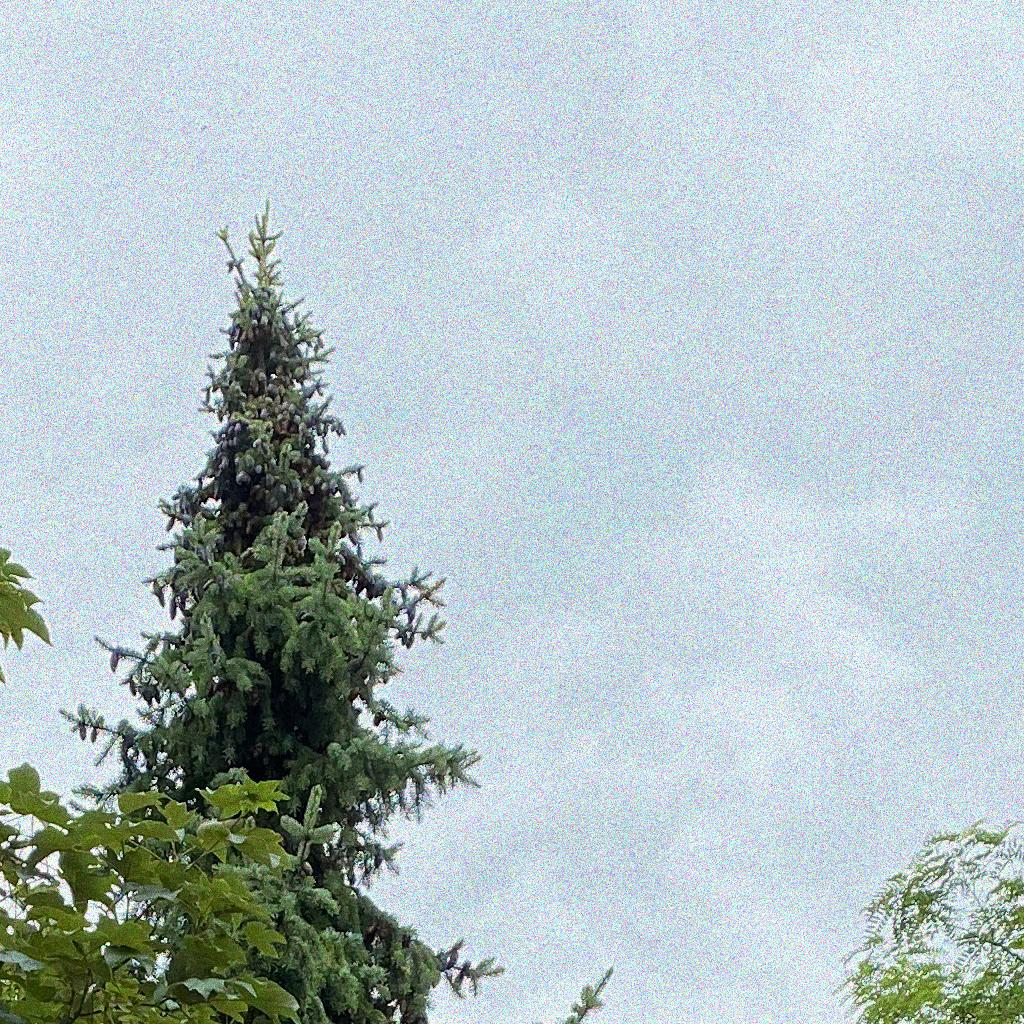tree: (1, 193, 622, 1023), (1, 546, 301, 1023), (833, 819, 1024, 1024)
